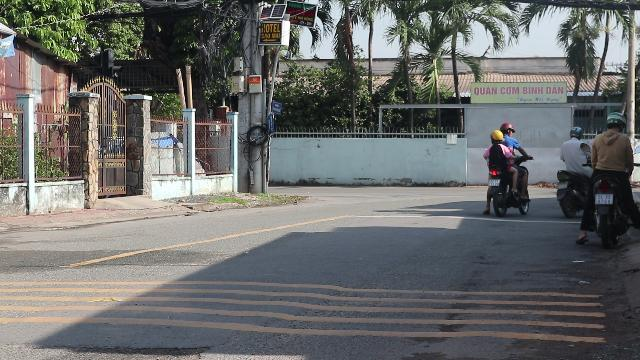helmet: (603, 112, 625, 132)
licenseplate: (594, 194, 612, 204)
motorcyclist: (587, 110, 639, 246)
